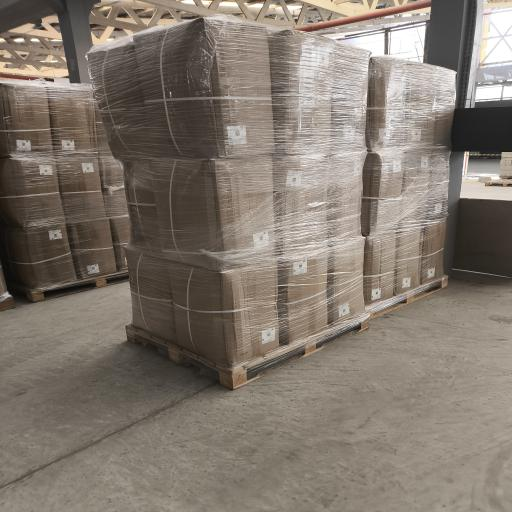pallet: (126, 321, 369, 389), (8, 271, 128, 302), (367, 276, 448, 319), (0, 296, 15, 311), (485, 179, 512, 187)
